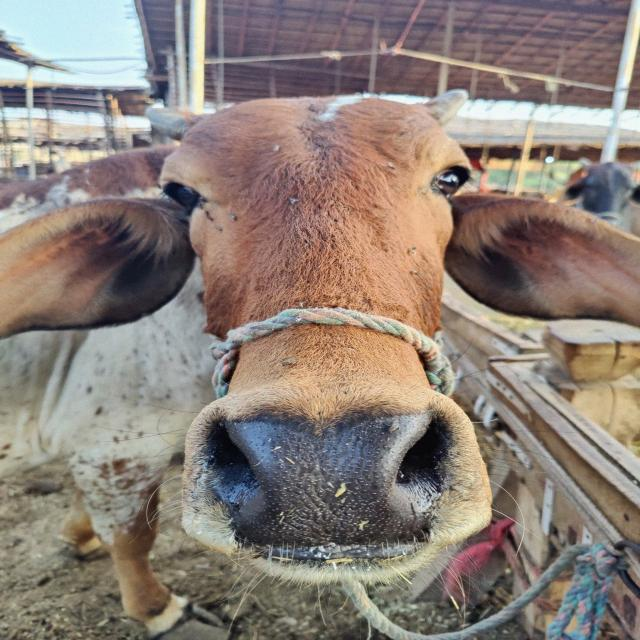muzzles: (192, 402, 473, 564)
